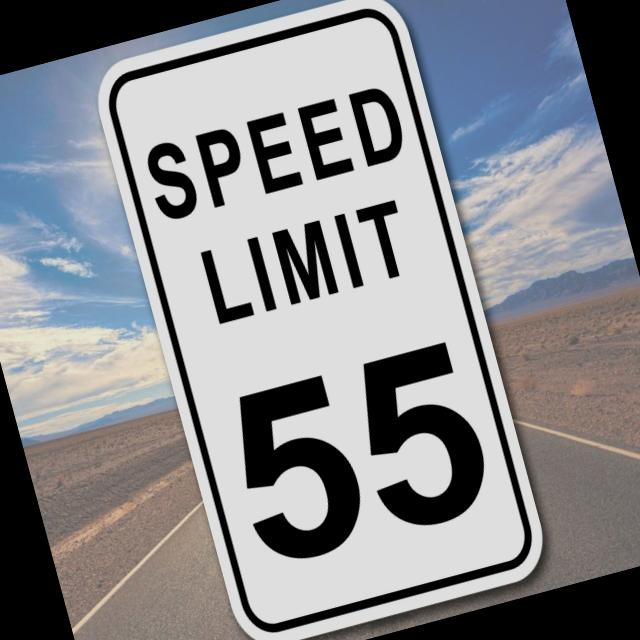Speed Limit Signs: (85, 0, 554, 640)
